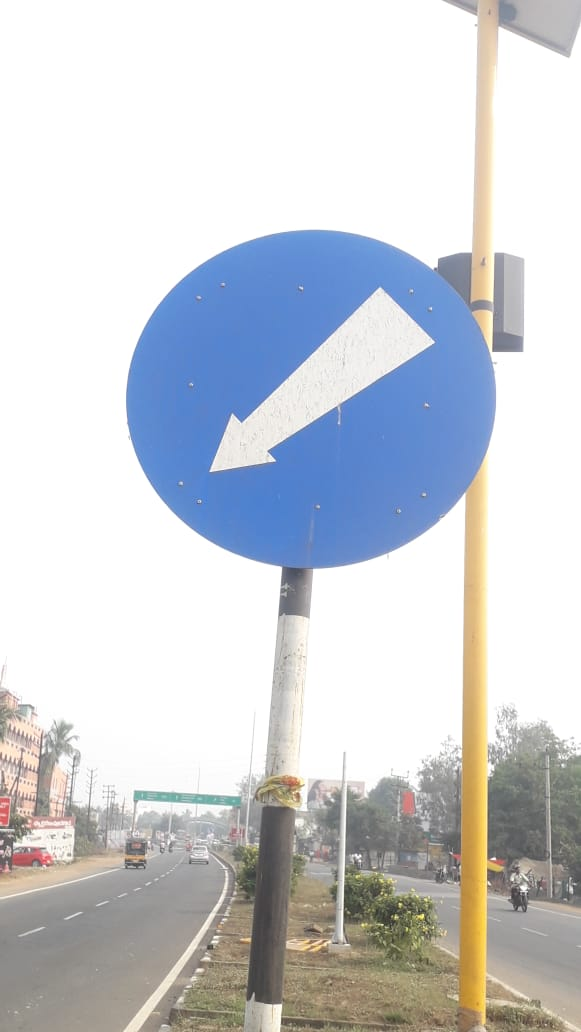go left: (123, 196, 534, 606)
